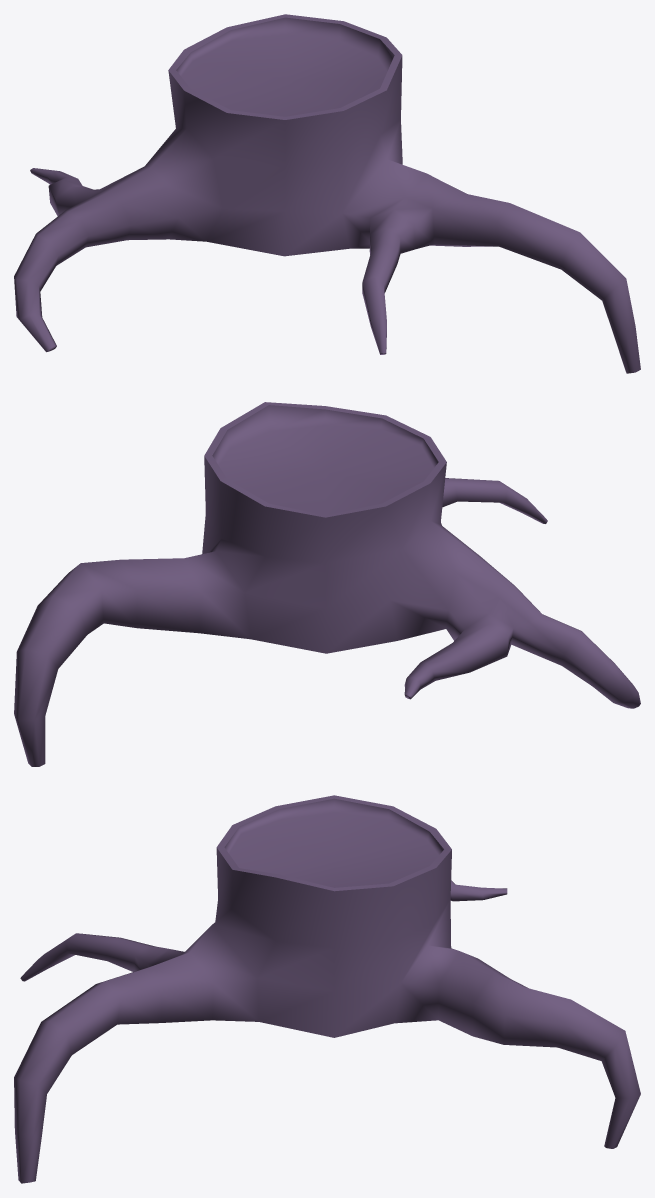
File: treeTrunk1_LP.fbx
3 views of the same model, one above another, from view 1: azimuth 30°, elevation 25°; view 2: azimuth 150°, elevation 25°; view 3: azimuth 270°, elevation 25° (orthographic). The views are drawn at different scales.
Visible parts, largest first — view 1: treeTrunk1_LP; view 2: treeTrunk1_LP; view 3: treeTrunk1_LP.
Boxes of the visible parts, x1=… form: treeTrunk1_LP: x1=14, y1=14, x2=640, y2=373; treeTrunk1_LP: x1=14, y1=402, x2=640, y2=766; treeTrunk1_LP: x1=14, y1=795, x2=640, y2=1183.
Bounding box in the file's own units: 519 × 258 × 579.
